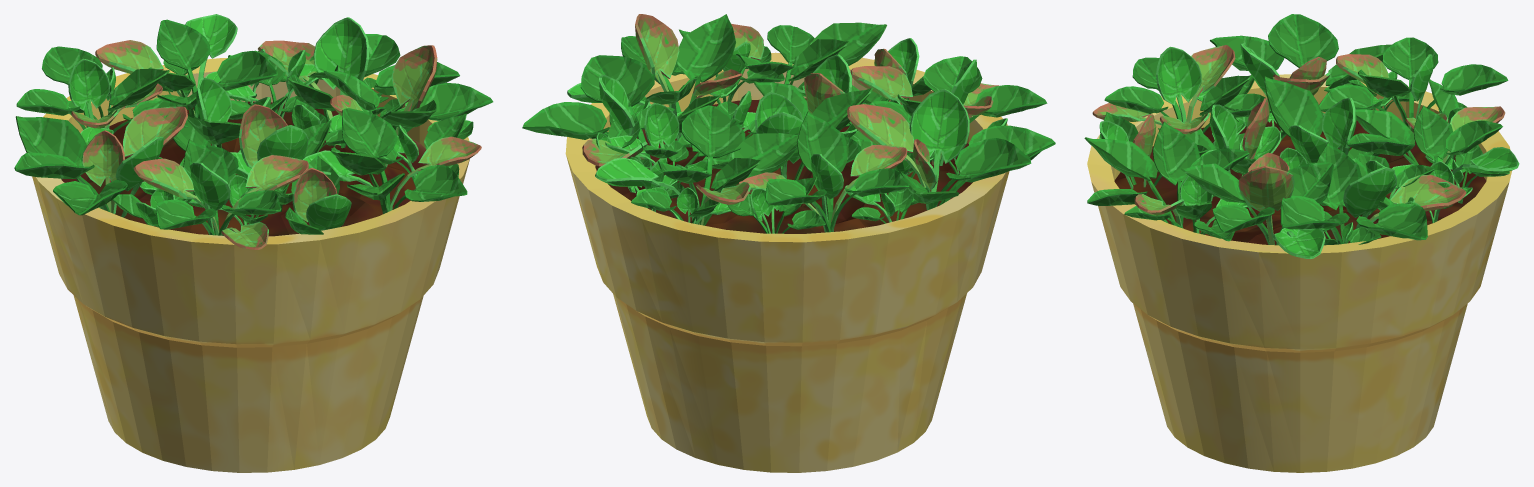
Rendered from Viola_Neutral_End.glb.
3 renders of one model, left to right at view 1: azimuth 30°, elevation 25°; view 2: azimuth 150°, elevation 25°; view 3: azimuth 270°, elevation 25°, orthographic. The views are drawn at different scales.
Visible parts, largest first — view 1: Pot, Plant; view 2: Pot, Plant; view 3: Pot, Plant.
Part boxes in pixels (box(x1,y1,x2,y2)): Pot: box(32, 58, 469, 472); Plant: box(14, 14, 493, 249); Pot: box(565, 52, 1009, 472); Plant: box(522, 14, 1055, 233); Pot: box(1087, 74, 1511, 472); Plant: box(1084, 14, 1519, 258).
Bounding box in the file's own units: 2.4 × 1.73 × 2.09.
4 materials, 4 textured.
